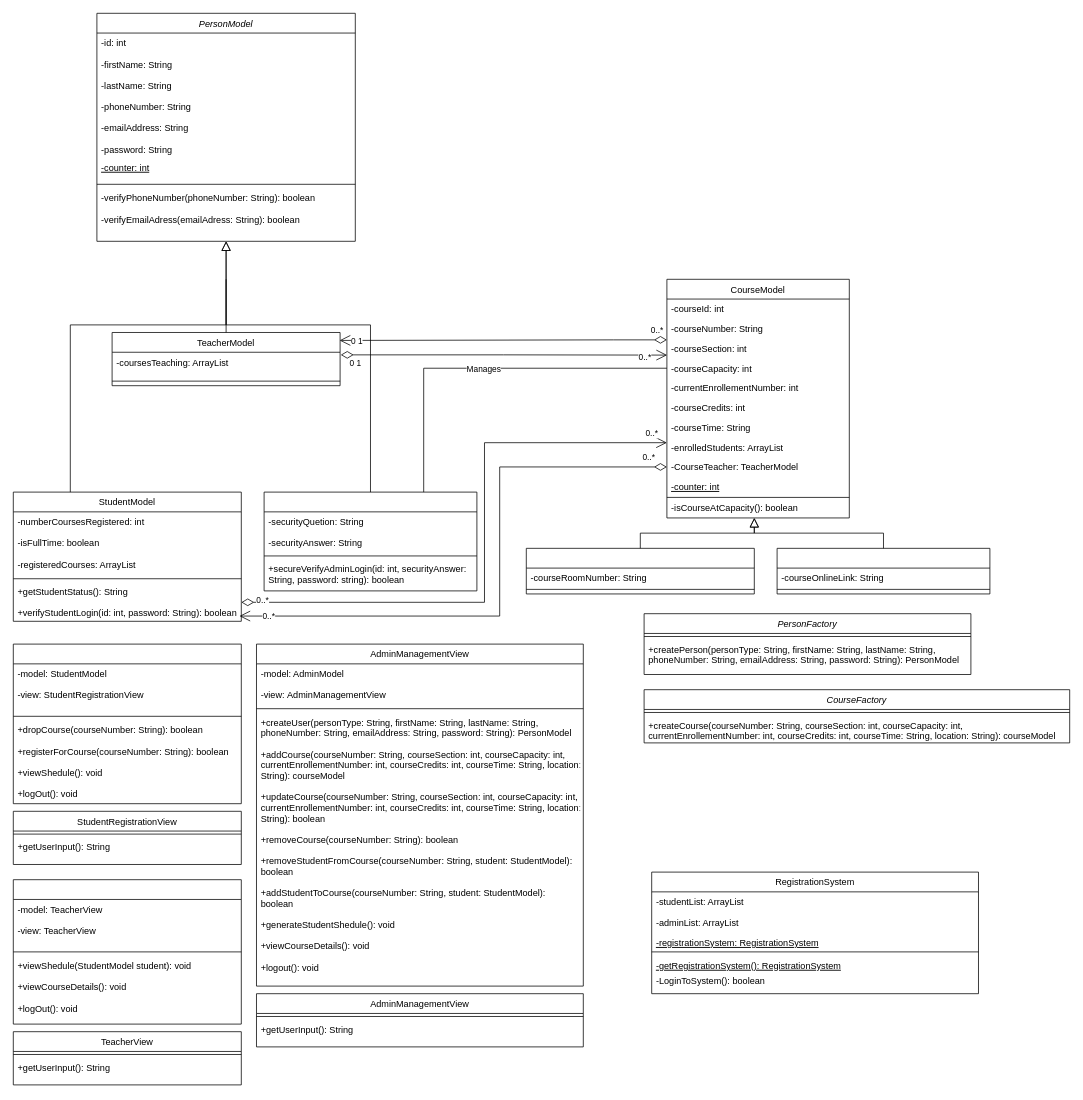
This 1083x1100 diagram has some shape labels left out. The shapes that lost their labels are listed below. From the top down, each one's box as (x1, y1, x2, y2) in pixels, then its label:
(263, 491, 477, 591): AdminModel
(526, 548, 754, 594): InPersonCourseModel
(776, 548, 990, 594): OnlineCourseModel
(13, 643, 241, 804): StudentRegistrationController
(13, 879, 241, 1024): TeacherController
